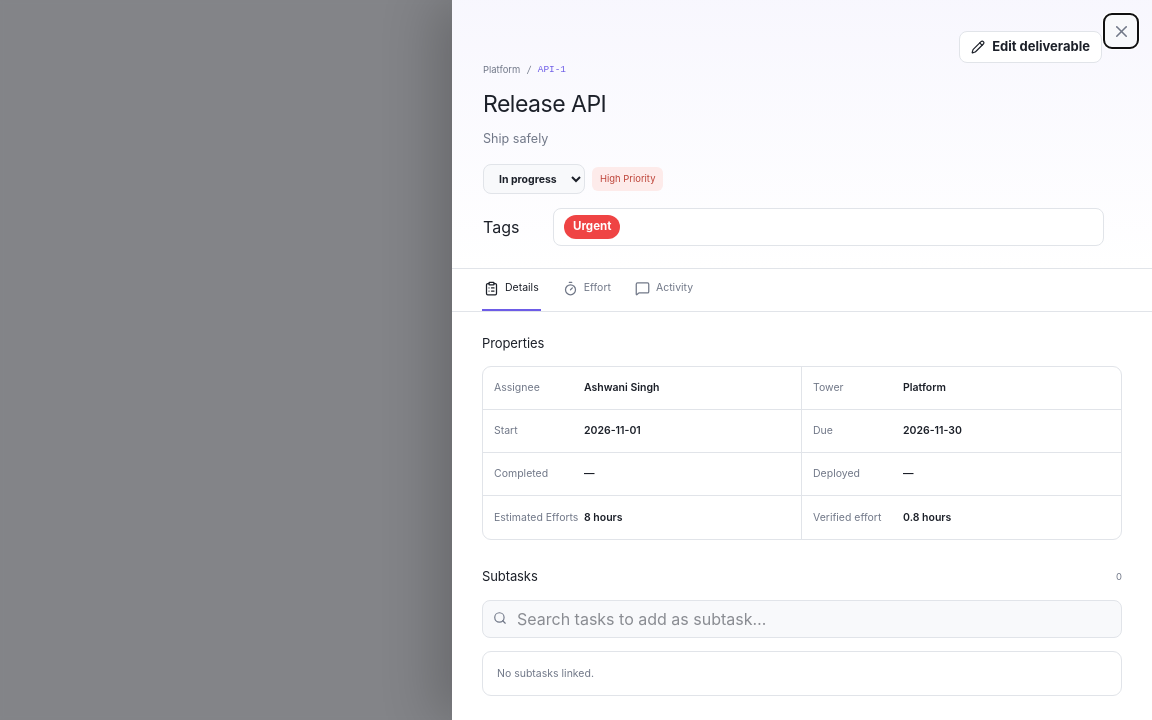
Test: deliverable details › lets a team member edit the deliverable and manage their own entries
Click the button "Activity": (664, 289) [633,268,695,310]
(page scrolled)
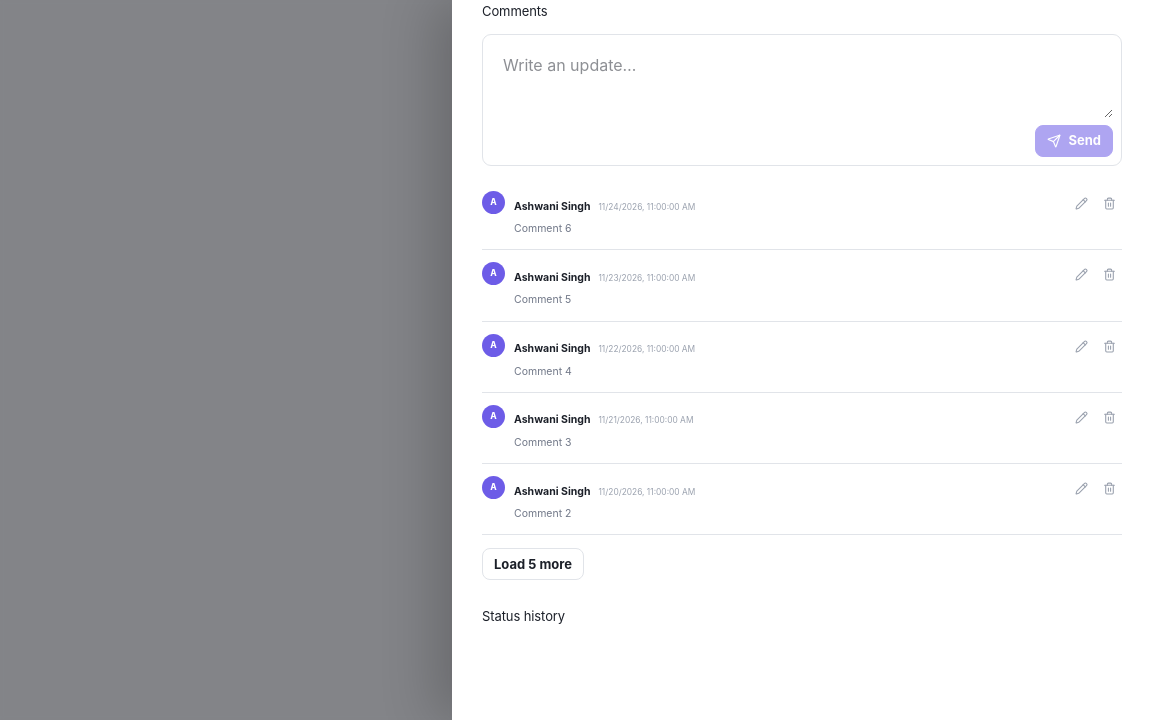
Check: the number of buttons named "Edit comment" is 5, box [1069,191,1094,216]; [1069,262,1094,287]; [1069,334,1094,358]; [1069,405,1094,430]; [1069,476,1094,501]
Click the button "Load 5 more": (533, 564) [482,548,584,580]
(page scrolled)
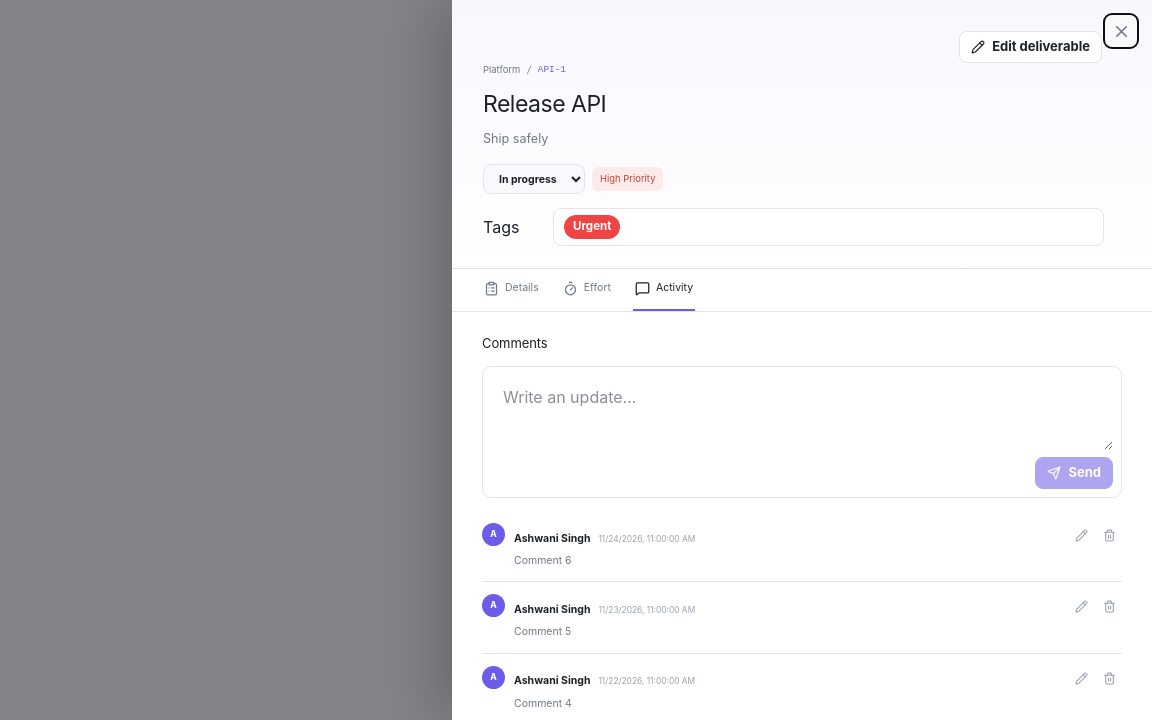
Click the button "Edit deliverable": (1031, 47) [959,31,1102,63]
(page scrolled)
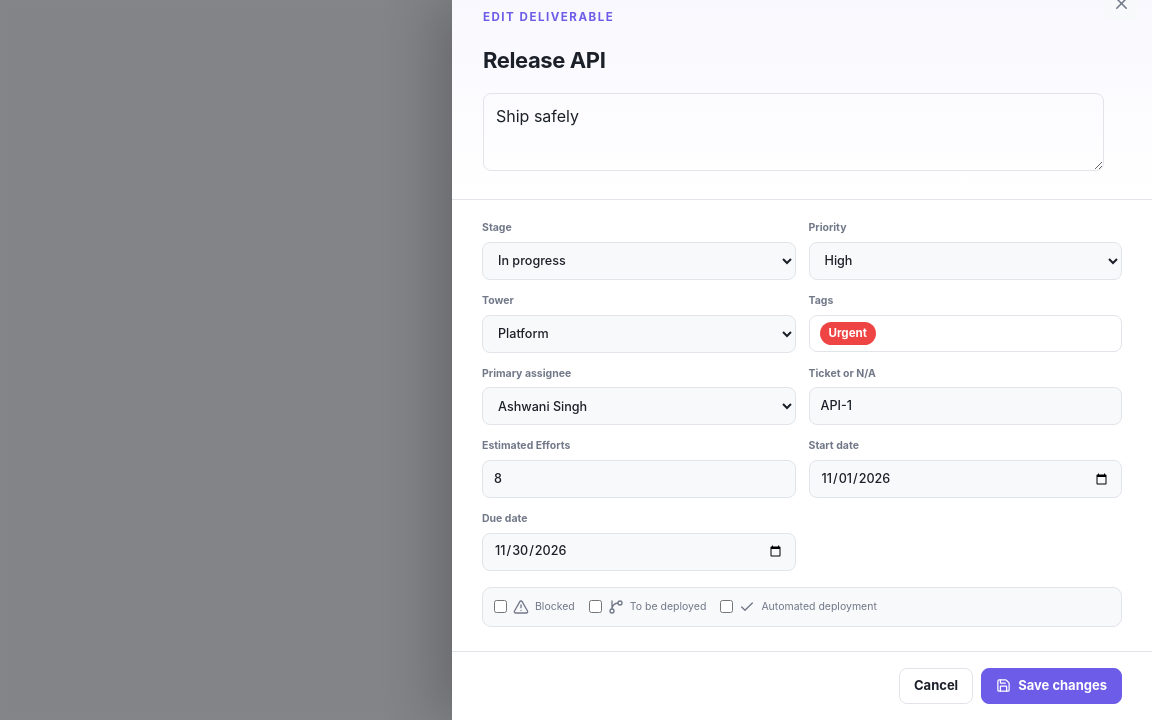
Check: the field named "Deliverable title" holds "Release API", box [483,37,1104,83]
Check: the date field labelled "Due date" holds "2026-11-30", box [482,533,796,571]
Check: the button "Save changes" is shown, box [981,668,1122,704]
